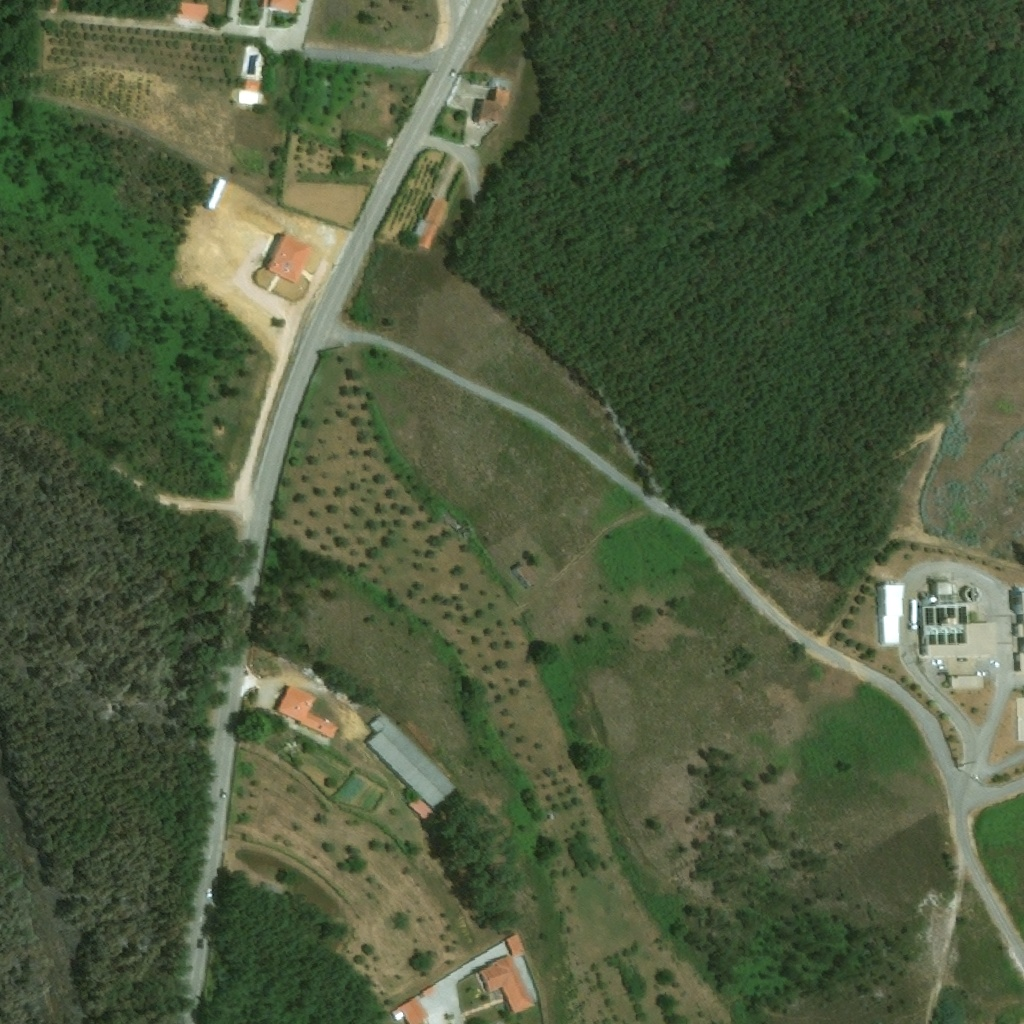0 no-damage: (364, 713, 456, 807), (916, 579, 997, 657), (252, 232, 323, 303), (273, 685, 339, 740), (477, 955, 535, 1014), (412, 196, 449, 251), (875, 583, 905, 644), (455, 972, 494, 1017), (471, 88, 510, 125), (389, 997, 427, 1023), (511, 562, 541, 591), (174, 1, 210, 25), (407, 799, 435, 823), (945, 675, 984, 690), (504, 933, 523, 956), (961, 586, 981, 603), (240, 81, 262, 96), (420, 985, 433, 999)
4 un-classified: (1006, 588, 1023, 672), (293, 212, 327, 229), (259, 0, 300, 13), (1015, 698, 1023, 741)
